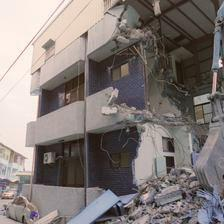Destroyed_Building: (8, 0, 224, 220)
